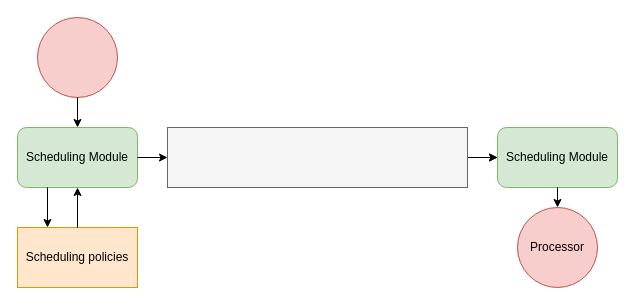
Image size: 635x305. Some labels were removed from this diagram. The shapes that lost their labels are listed below. From the top down, each one's centre as x and y in pixels, then its label:
At pixel 77 57: "User".
At pixel 317 157: "Job Buffer".
